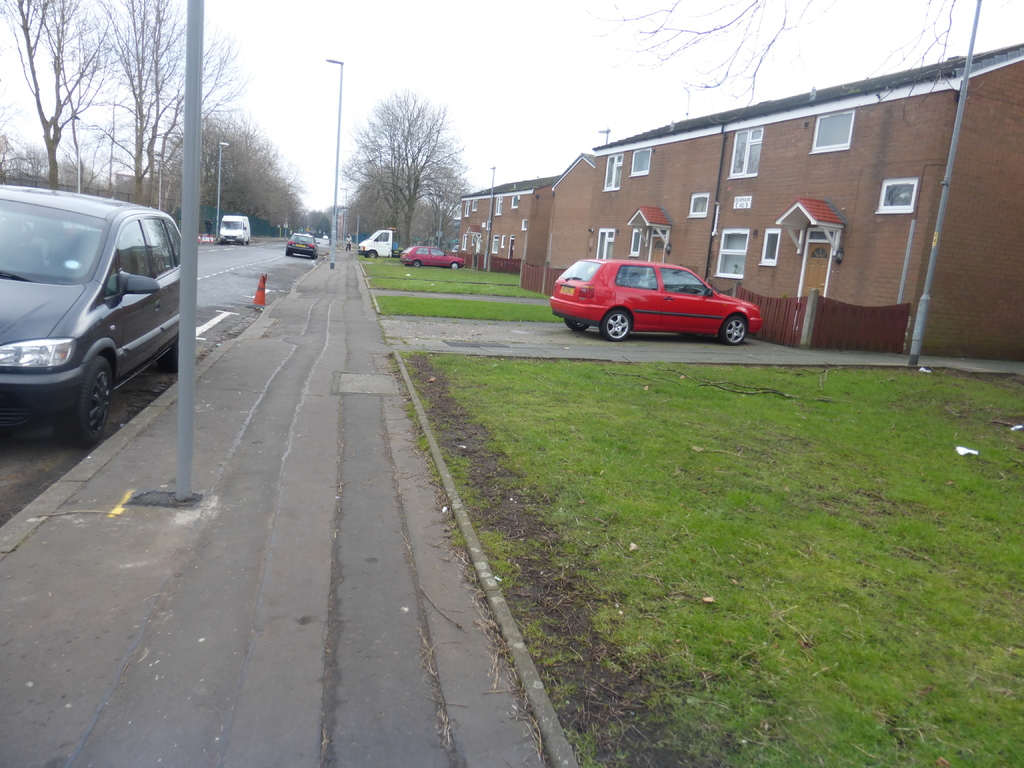Car: (0, 181, 176, 446), (548, 257, 761, 342), (397, 245, 465, 268), (286, 229, 320, 261)
